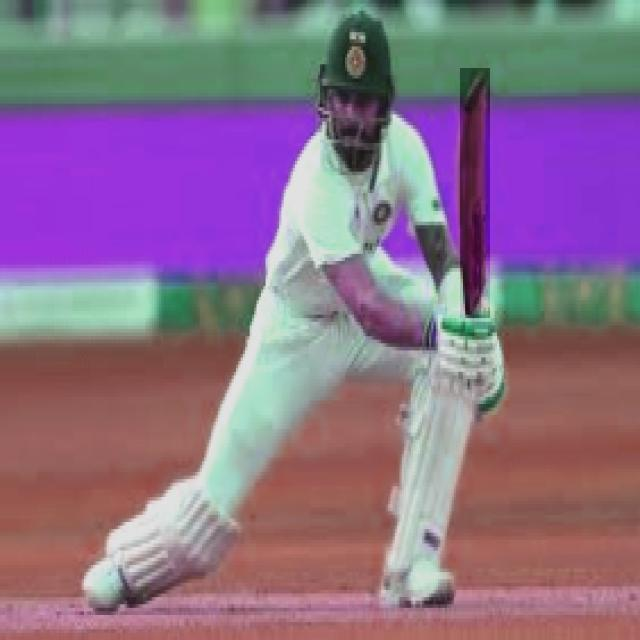bat: (453, 69, 493, 316)
